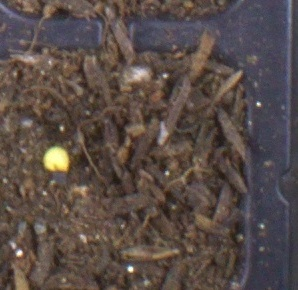chilli seed: (41, 145, 70, 172)
